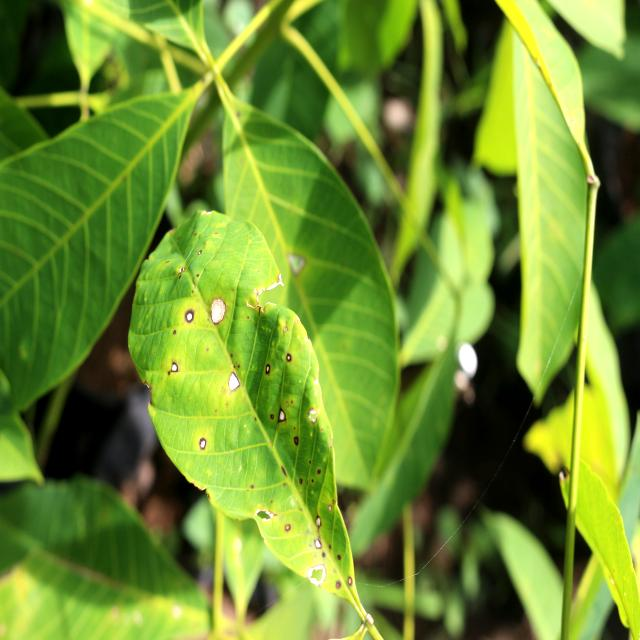Colletotrichum: (210, 297, 226, 325), (185, 309, 194, 323), (278, 408, 286, 423), (200, 438, 206, 450), (315, 516, 321, 528), (171, 362, 178, 372), (286, 353, 292, 363), (293, 436, 299, 445), (316, 540, 322, 548), (266, 364, 270, 374), (285, 524, 290, 532), (270, 414, 274, 419), (173, 330, 176, 334)
